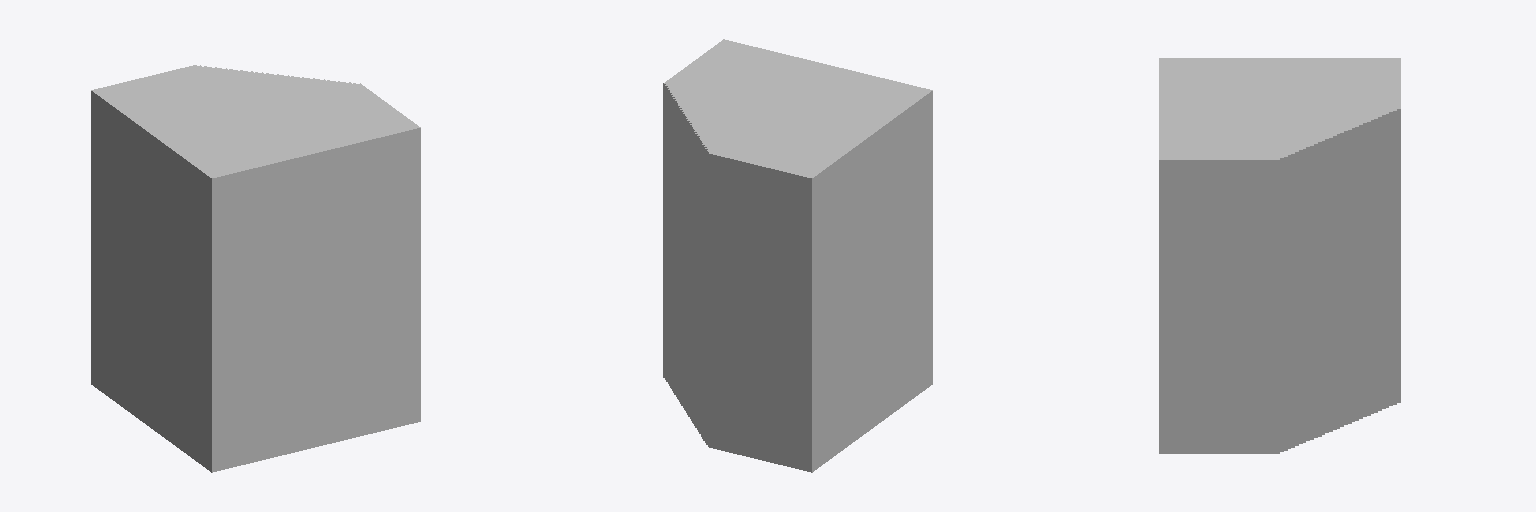
The model's file is case_11.obj.
The picture shows the model from 3 angles: view 1: azimuth 30°, elevation 25°; view 2: azimuth 150°, elevation 25°; view 3: azimuth 270°, elevation 25°; orthographic projection.
Parts seen in each view (by area): view 1: Untitled; view 2: Untitled; view 3: Untitled.
Boxes of the visible parts, <box> form: Untitled: <box>91,65,420,472</box>; Untitled: <box>663,39,932,472</box>; Untitled: <box>1159,58,1400,453</box>.
Bounding box in the file's own units: 6.4 × 8.6 × 6.4.